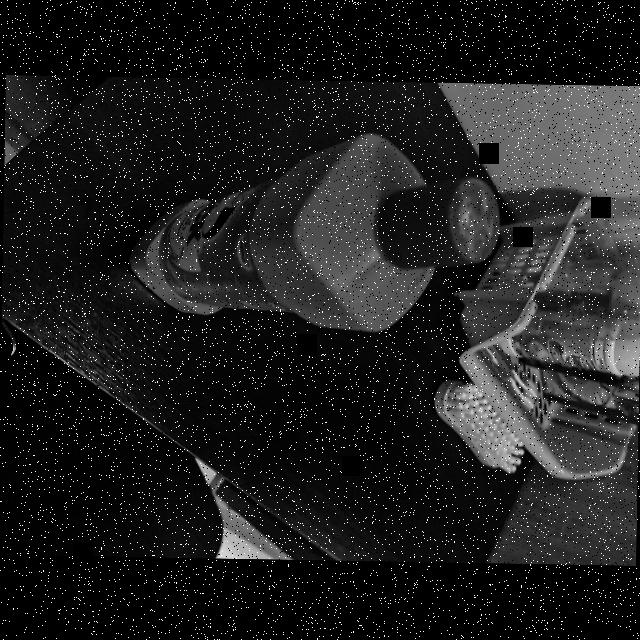chemical_plastic_bottle: (124, 123, 501, 329), (497, 309, 640, 374)
